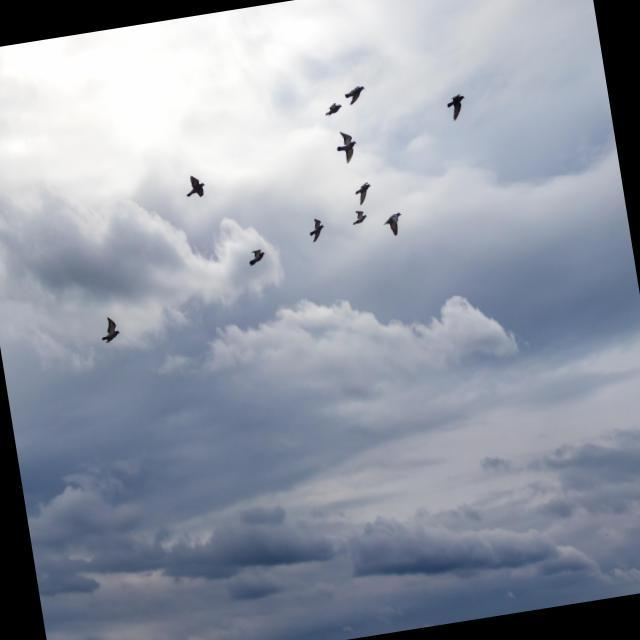bird: (332, 127, 362, 168), (443, 89, 472, 124), (97, 312, 124, 347), (181, 170, 208, 203), (341, 82, 372, 110), (305, 214, 329, 246), (382, 208, 406, 240), (352, 176, 376, 206), (246, 244, 270, 272), (321, 98, 344, 119), (350, 206, 371, 229)
